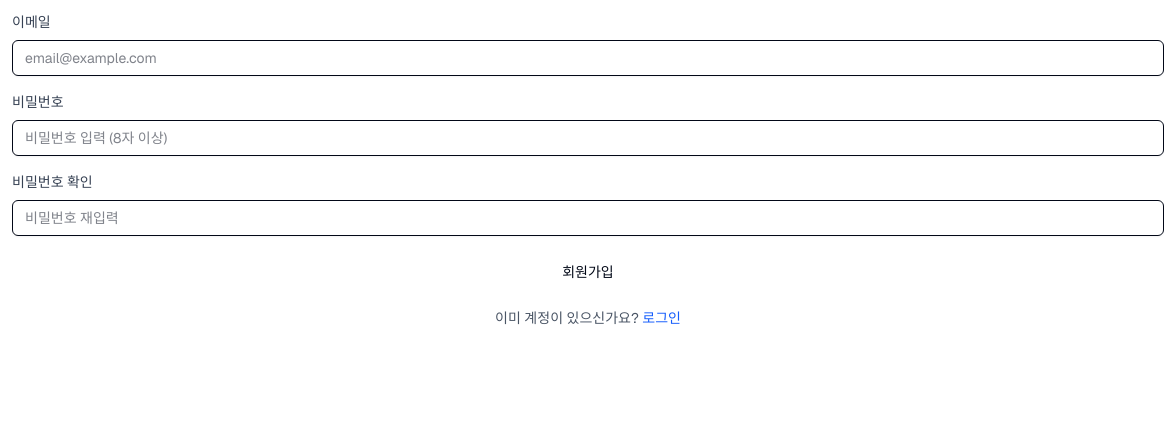
it: SignupForm › 중복 이메일 에러 처리 › 이미 존재하는 이메일이면 에러 메시지를 표시한다
Type "exists@example.com" into the field labelled "이메일" at (588, 58), box [12,40,1164,76]
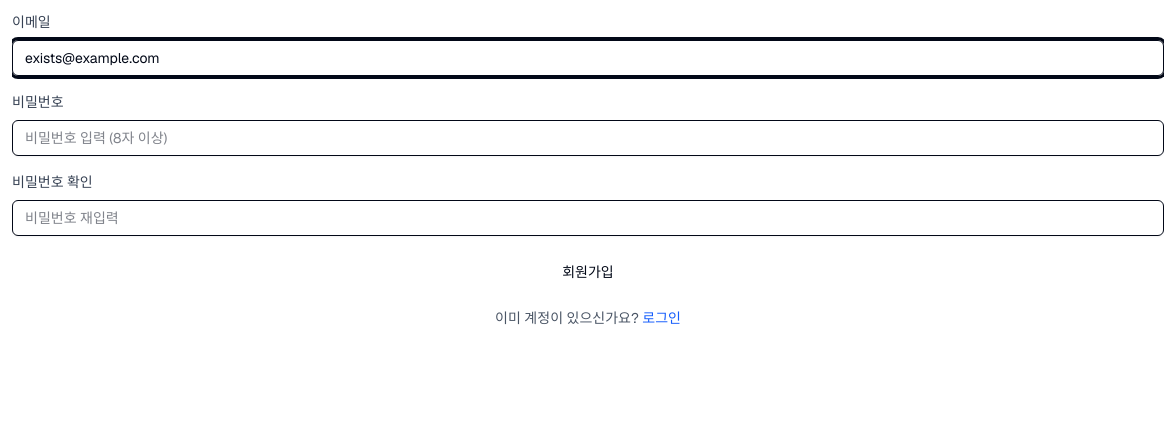
Type "password123" into the password field labelled "비밀번호" at (588, 138), box [12,120,1164,156]
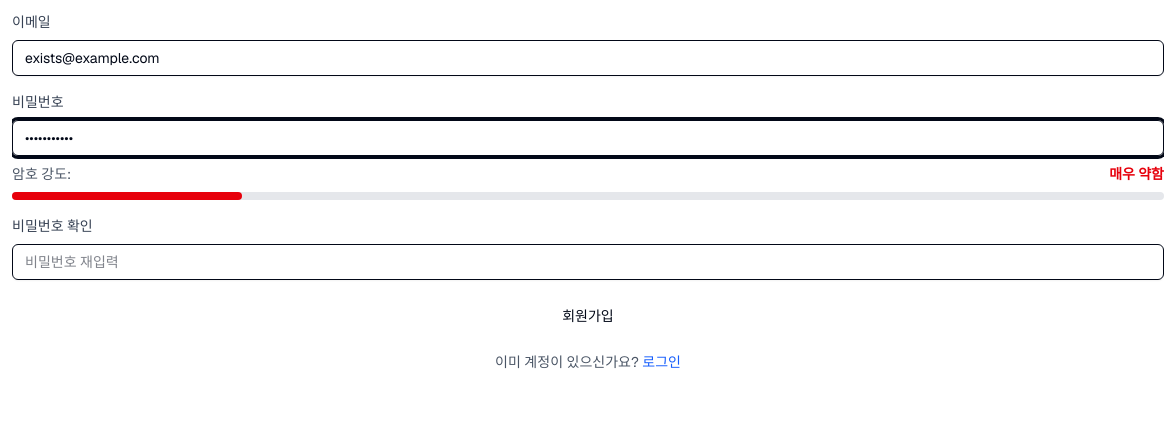
Type "password123" into the password field labelled "비밀번호 확인" at (588, 262), box [12,244,1164,280]
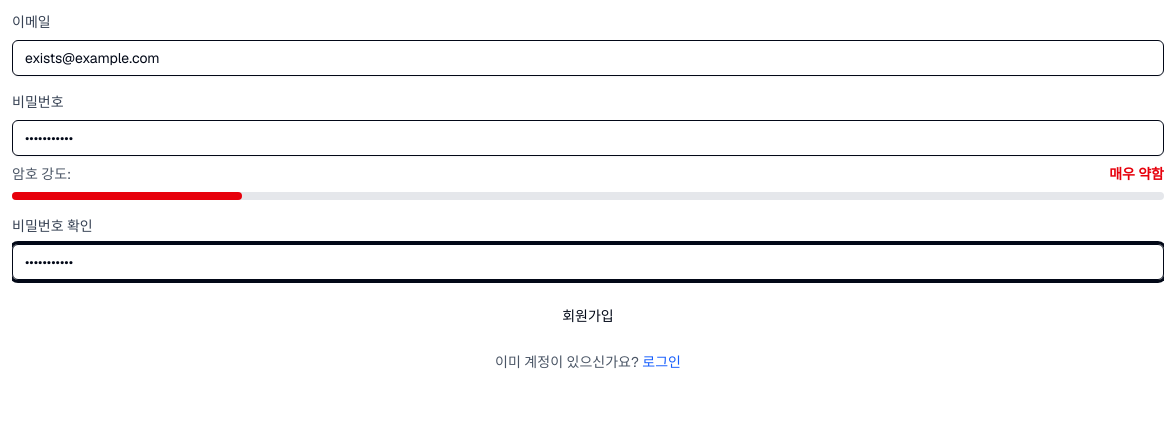
Click the button "회원가입" at (588, 316), box [12,296,1164,336]
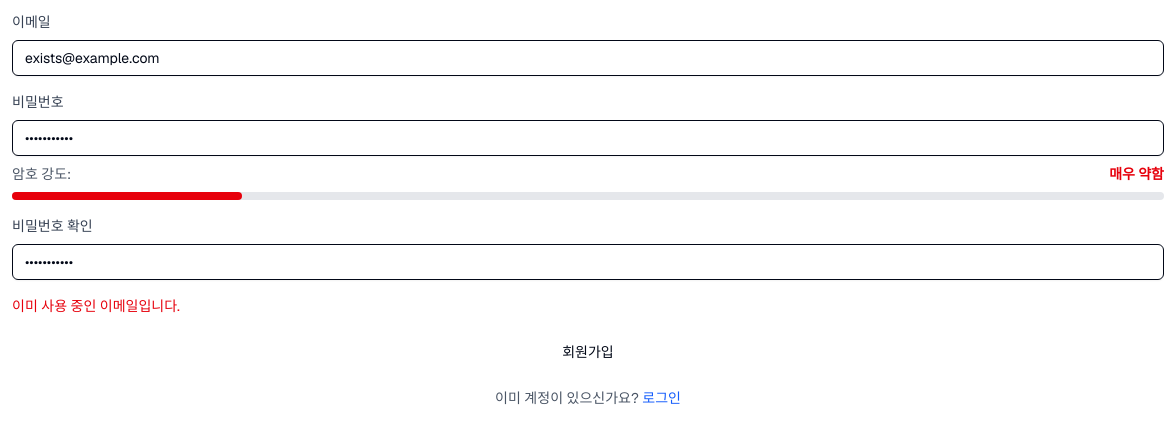
Expected: the text "이미 사용 중인 이메일입니다." is shown, [12,297,180,315]
